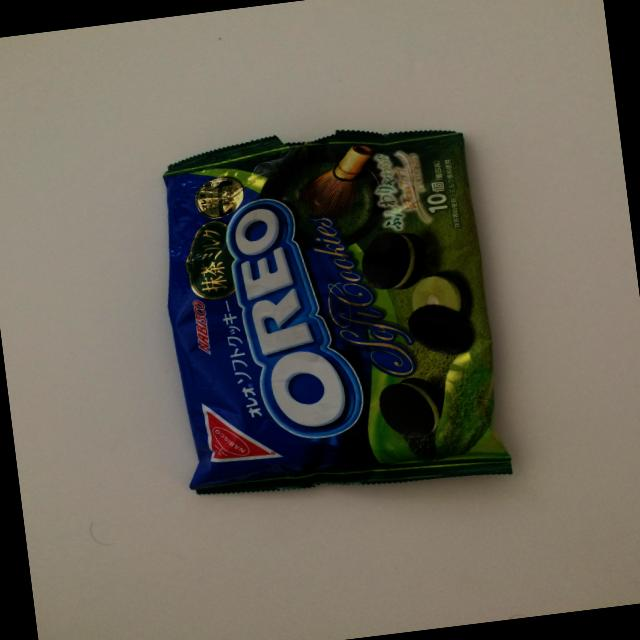Plastic: (116, 107, 521, 520)
